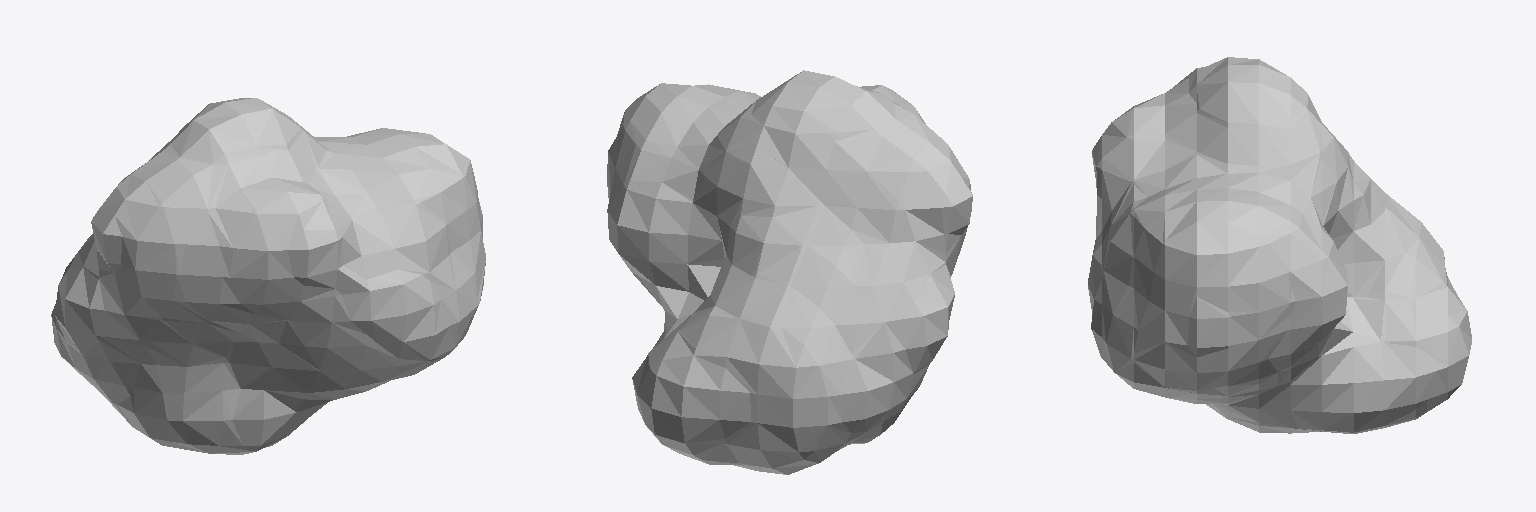
File: 1mw7_cms.obj
3 renders of one model, left to right at view 1: azimuth 30°, elevation 25°; view 2: azimuth 150°, elevation 25°; view 3: azimuth 270°, elevation 25°, orthographic.
Size of the model in its own units: 62.81 by 55.31 by 56.38.